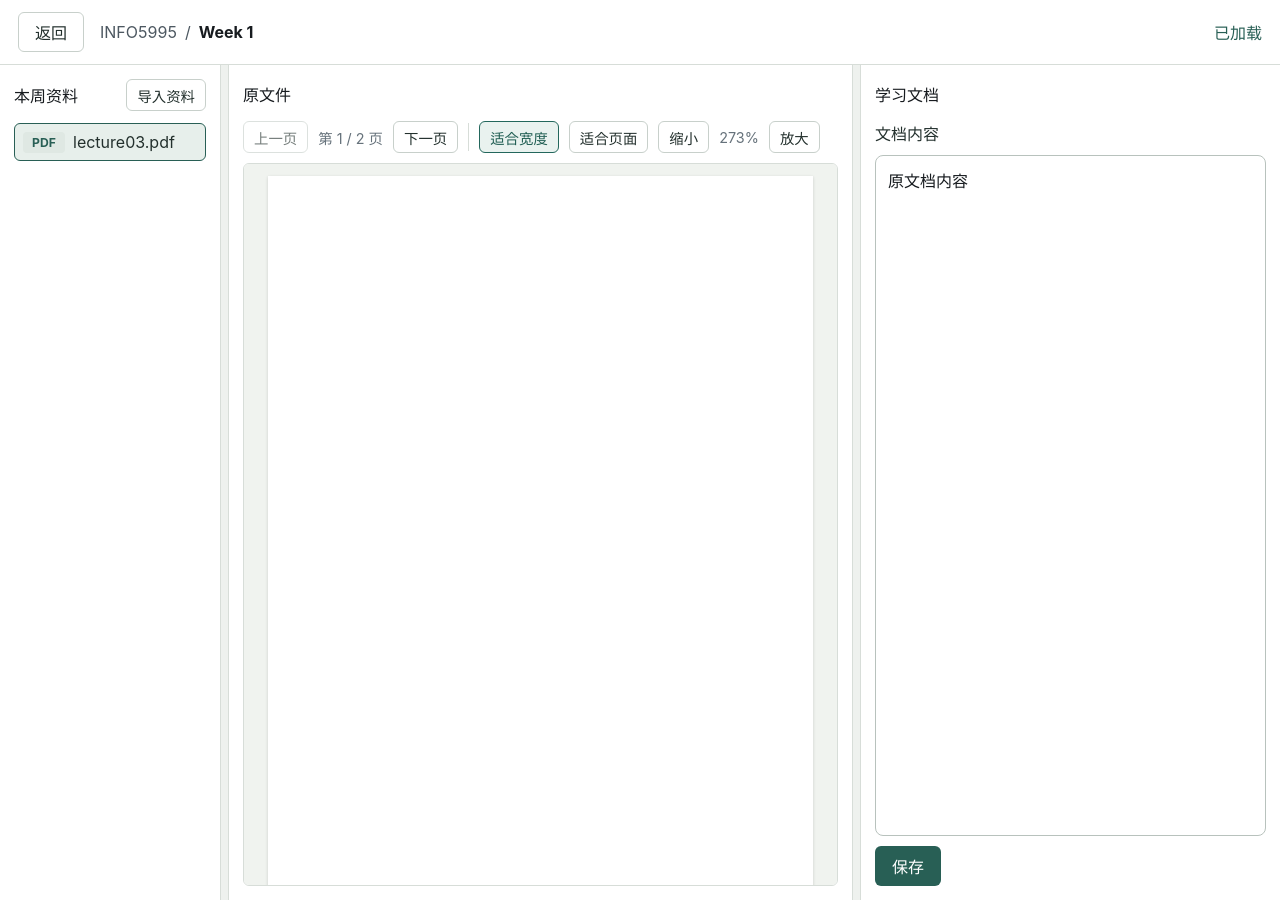
WorkspacePage › Document 保存失败
Expected: the text "INFO5995" is shown, [100,22,177,42]
Expected: the text "Week 1" is shown, [199,22,253,42]
Click the button "保存" at (908, 866), box [875,846,941,886]
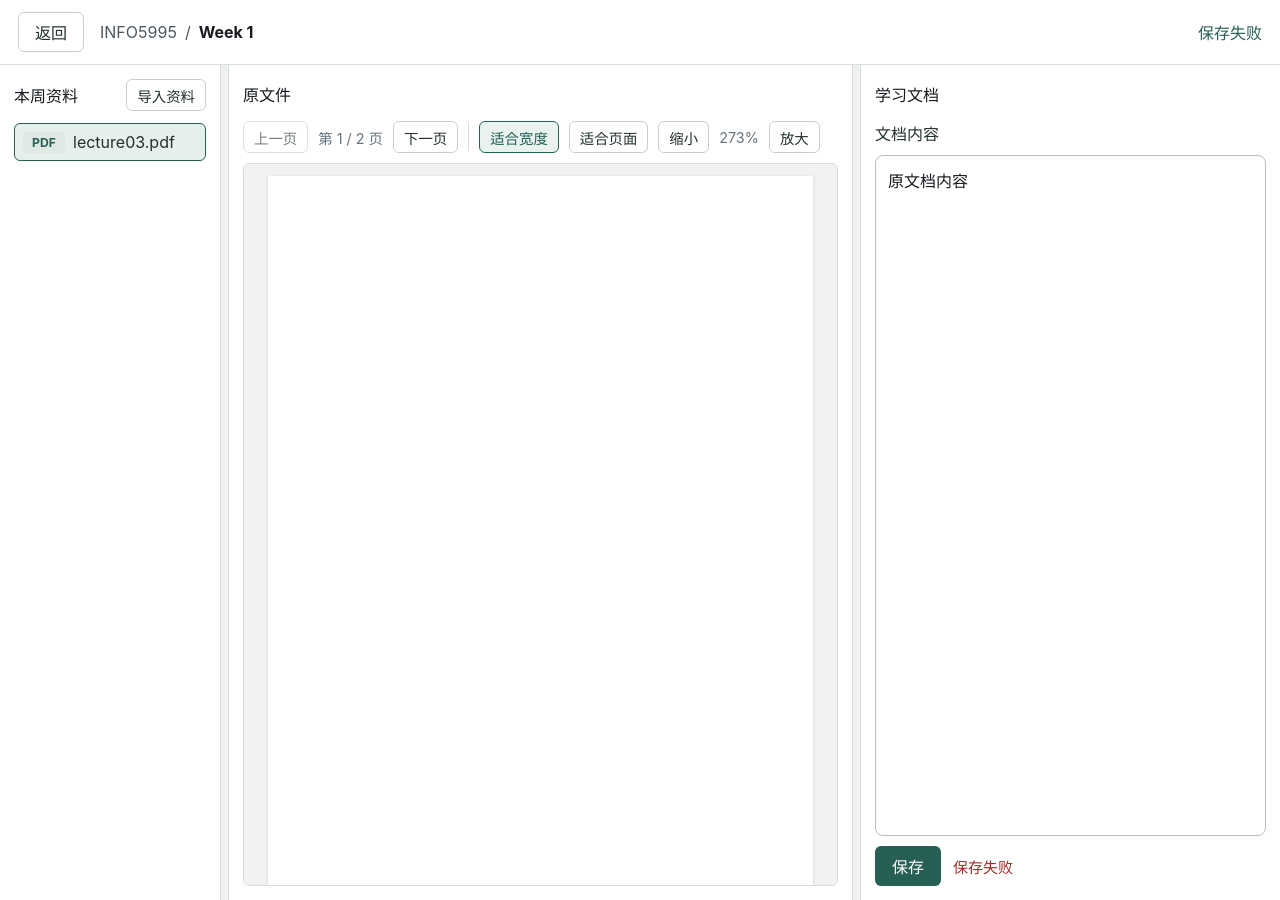
Result: the 2nd message "保存失败" is shown at [953,856,1013,876]
